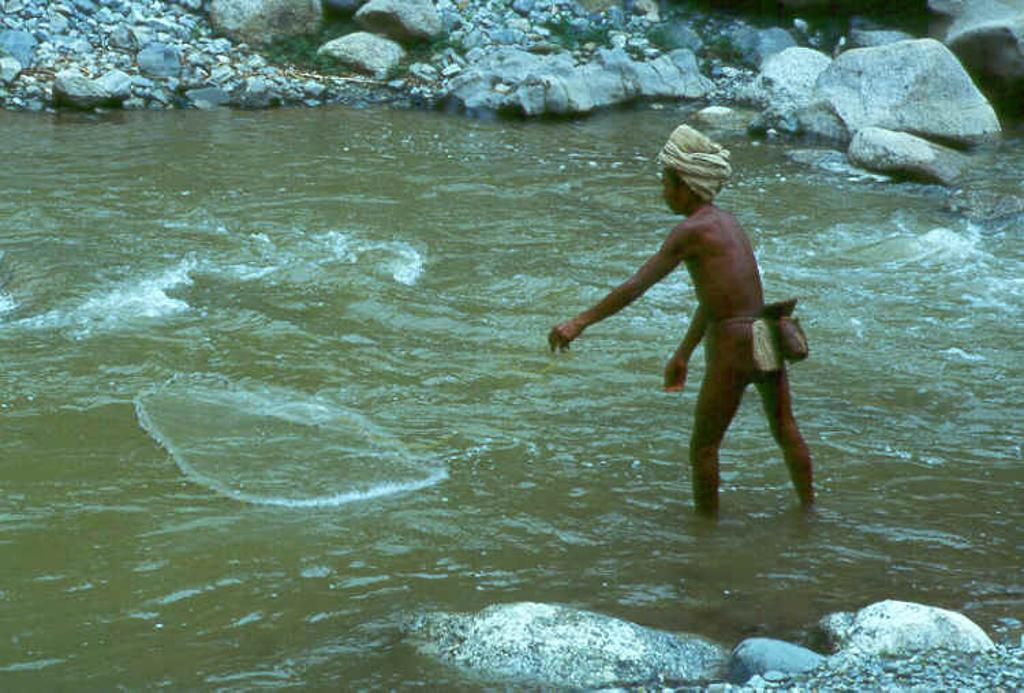face: (664, 169, 691, 215)
